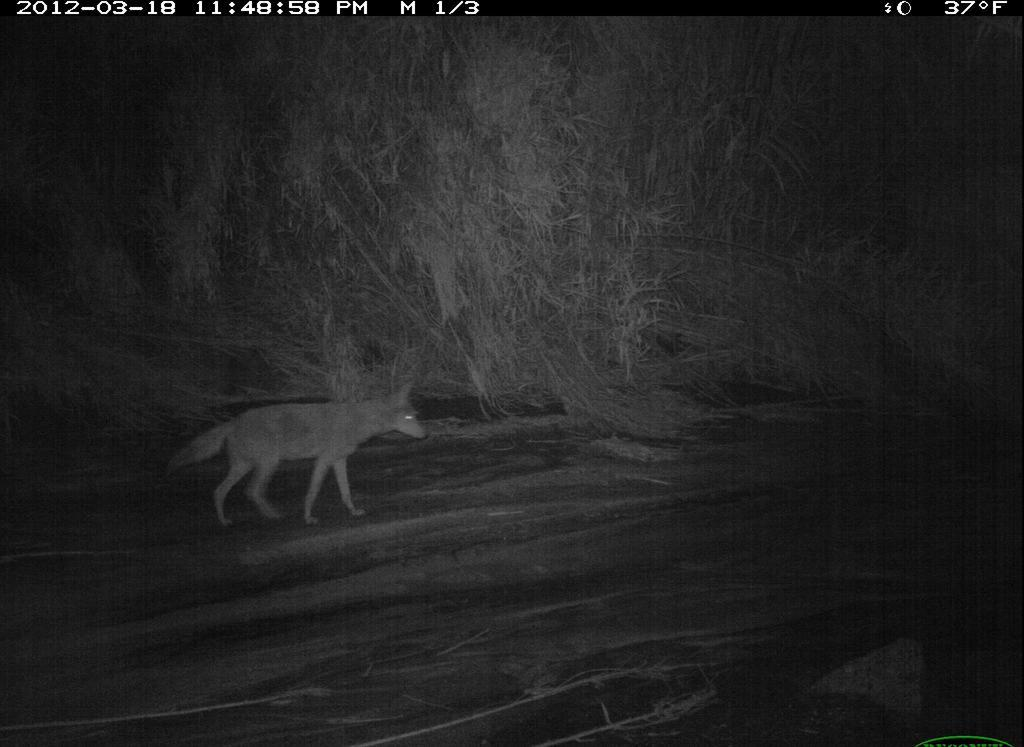coyote: (164, 377, 437, 532)
